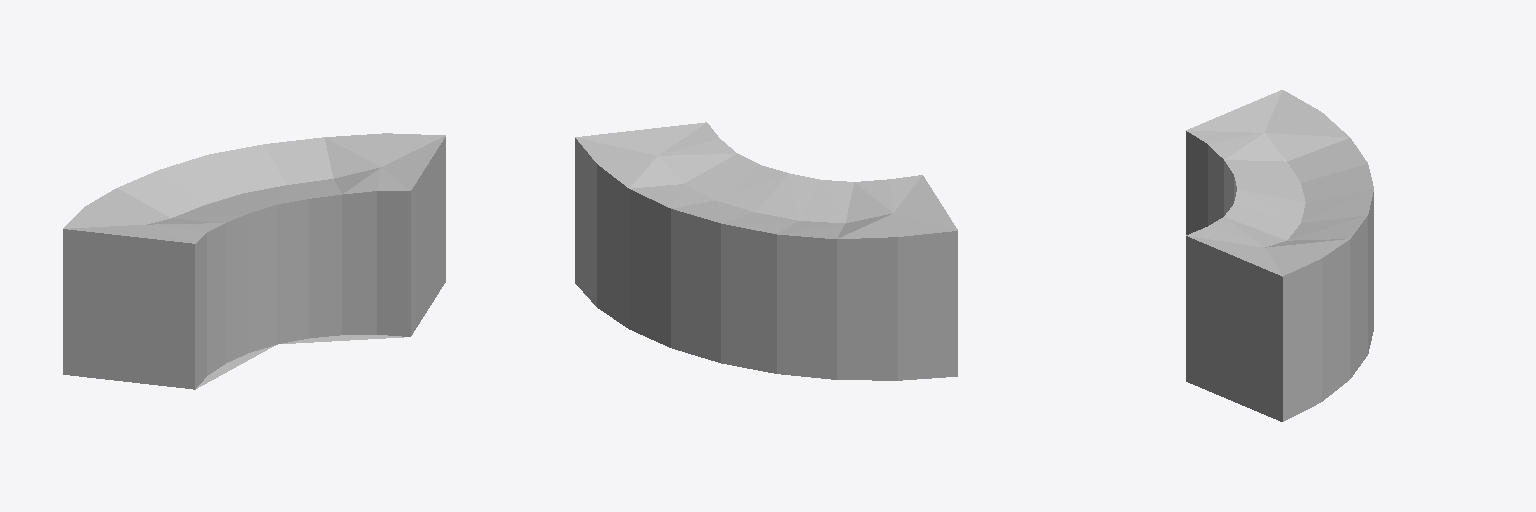
File: SlopedCart.obj
3 renders of one model, left to right at view 1: azimuth 30°, elevation 25°; view 2: azimuth 150°, elevation 25°; view 3: azimuth 270°, elevation 25°, orthographic.
Visible parts, largest first — view 1: Cylinder_Cylinder.020; view 2: Cylinder_Cylinder.020; view 3: Cylinder_Cylinder.020.
Boxes of the visible parts, box(x1,y1,x2,y2) form: Cylinder_Cylinder.020: box(63, 133, 445, 389); Cylinder_Cylinder.020: box(575, 122, 957, 380); Cylinder_Cylinder.020: box(1186, 90, 1373, 421).
Bounding box in the file's own units: 1.41 × 0.5141 × 0.6023.